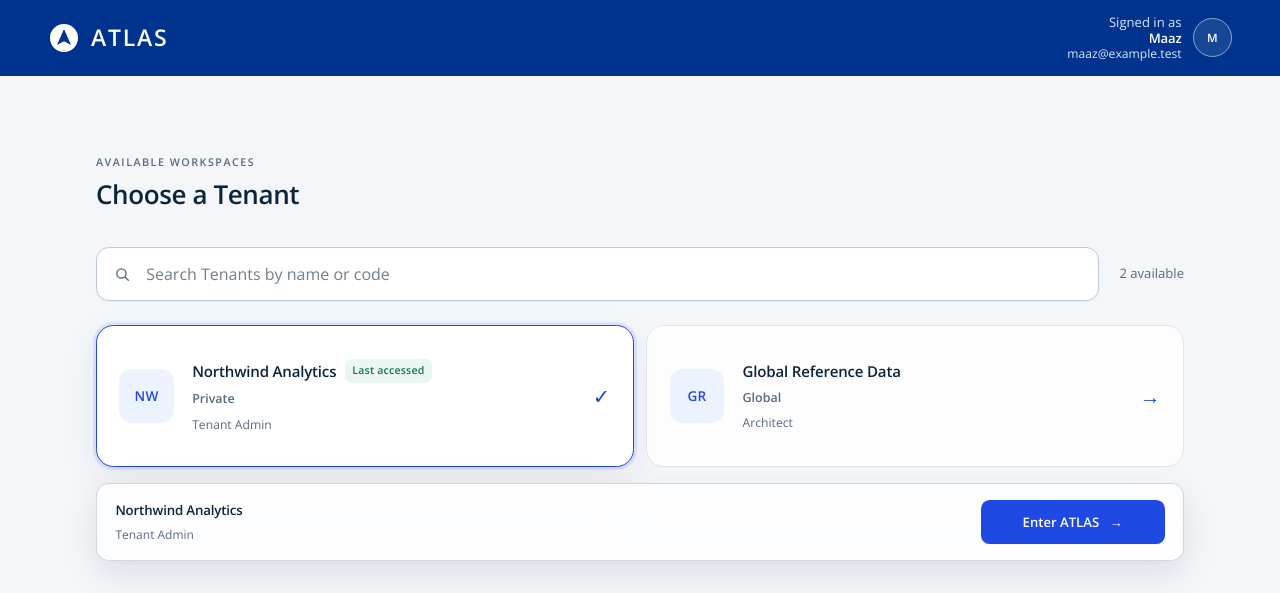
Scenario: tenant entry › filters Tenants without adding a generic dashboard
Check: the 1st text "Northwind Analytics" is shown, box [192,360,336,382]
In the search field labelled "Search Tenants": (613, 274) [144,249,1082,299], type "global"
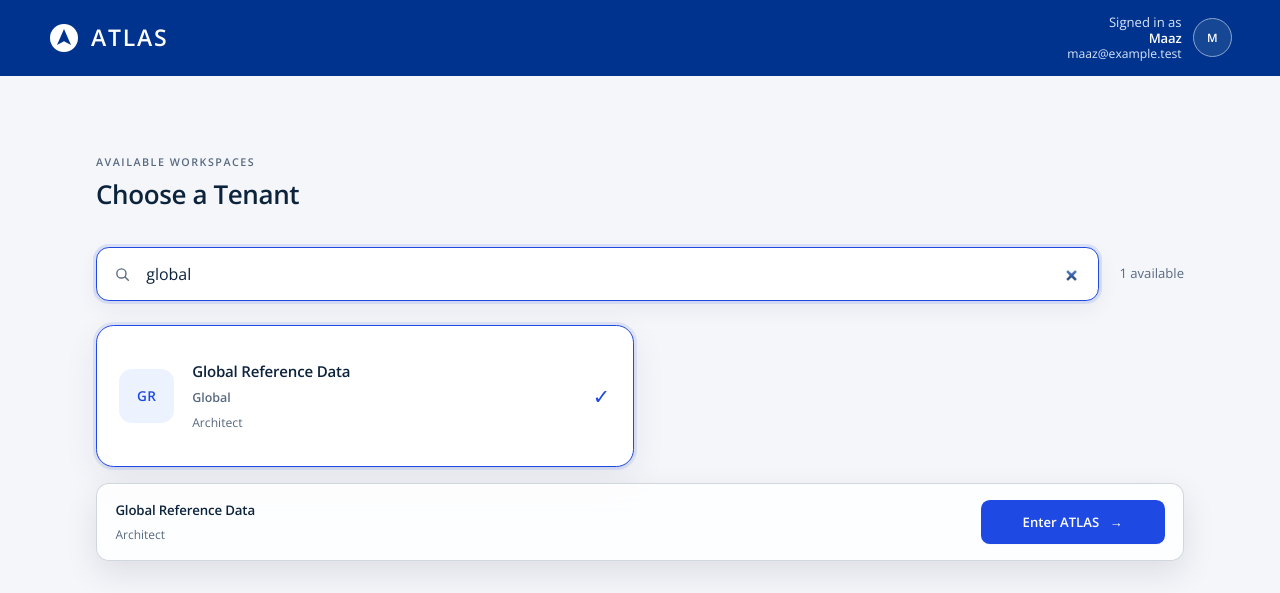
Check: the button "Northwind Analytics" is gone
